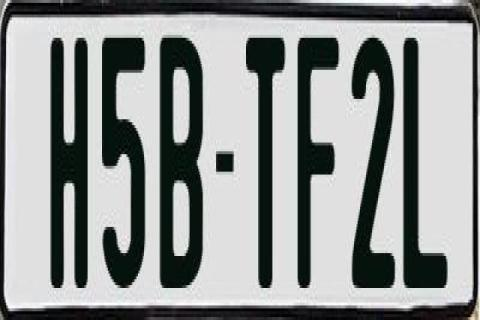0: (348, 29, 392, 297), (100, 32, 146, 288)
B: (158, 38, 204, 291)
F: (294, 38, 338, 288)
H: (48, 32, 92, 282)
L: (402, 29, 448, 282)
T: (242, 38, 286, 288)
